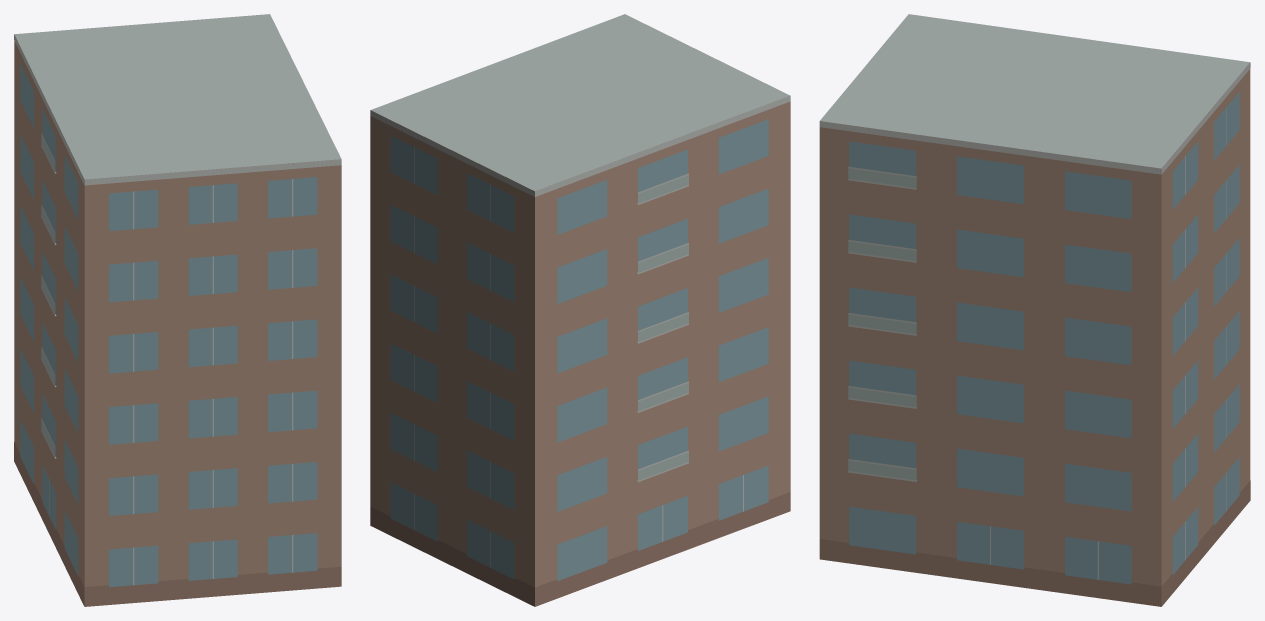
Rendered from survey-upis-32708256.glb.
3 views of the same model, side by side, from view 1: azimuth 30°, elevation 25°; view 2: azimuth 150°, elevation 25°; view 3: azimuth 270°, elevation 25° (orthographic). The views are drawn at different scales.
Visible parts, largest first — view 1: survey-upis-32708256.tmp; view 2: survey-upis-32708256.tmp; view 3: survey-upis-32708256.tmp.
Boxes of the visible parts, x1=… form: survey-upis-32708256.tmp: x1=14, y1=14, x2=341, y2=606; survey-upis-32708256.tmp: x1=370, y1=14, x2=790, y2=606; survey-upis-32708256.tmp: x1=819, y1=14, x2=1250, y2=606.
Size of the model in its own units: 13.24 by 17.5 by 15.6.
